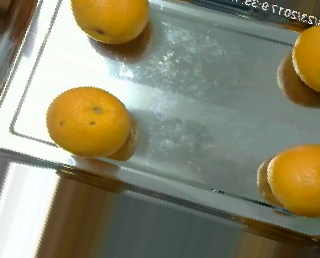Orange: (44, 84, 131, 157), (264, 142, 319, 214)
